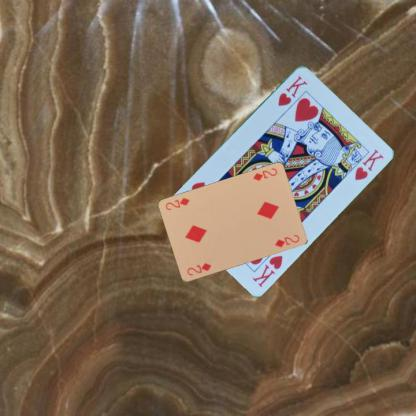2d: (184, 260, 213, 276), (250, 166, 279, 182)
Kh: (250, 252, 284, 288), (275, 73, 309, 107)
